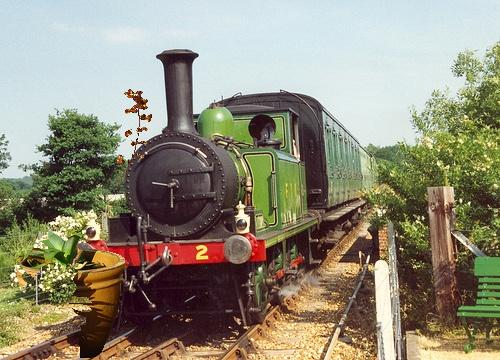tampered: (17, 90, 152, 358)
